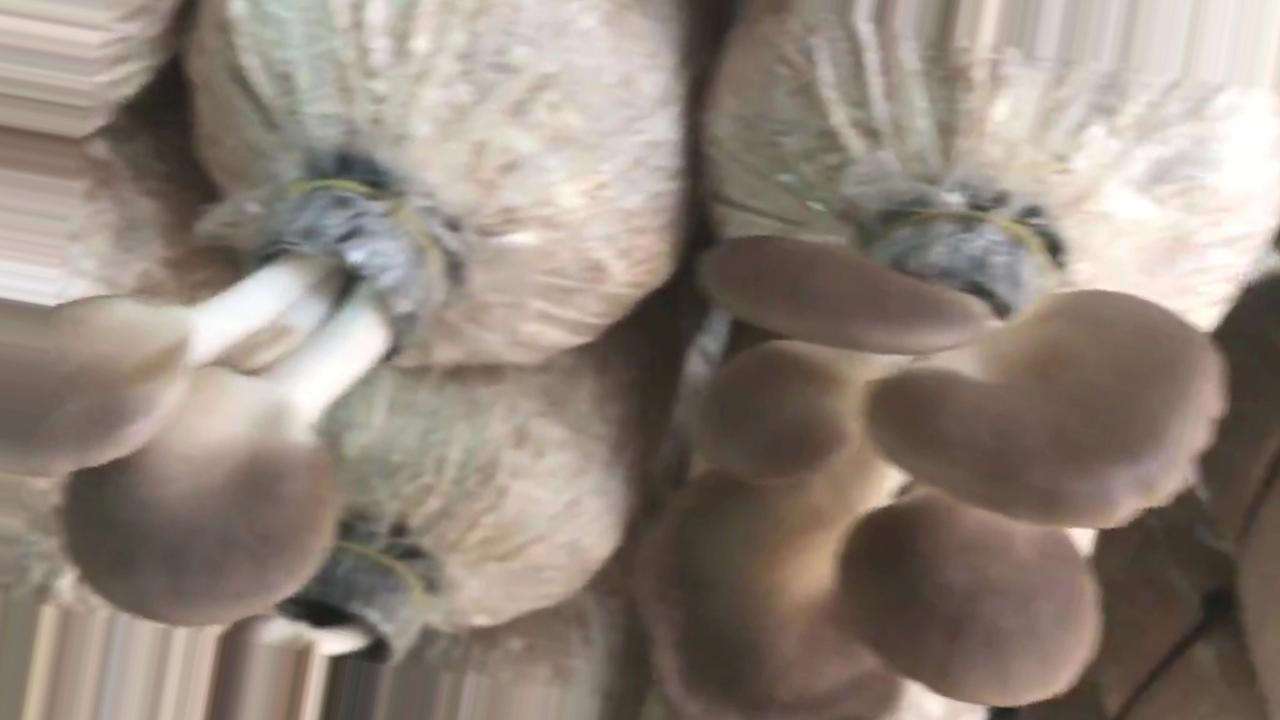nam: (637, 220, 1224, 720), (1, 186, 441, 630), (209, 551, 432, 719)
